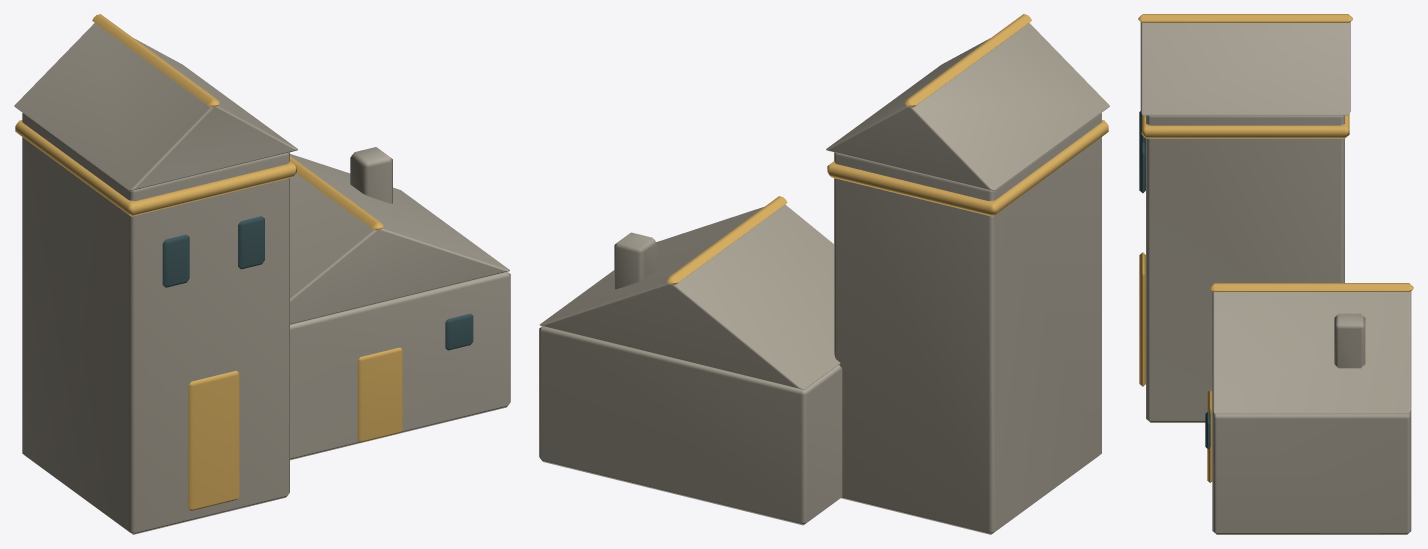
Rendered from default_town.glb.
The picture shows the model from 3 angles, left to right: view 1: azimuth 30°, elevation 25°; view 2: azimuth 150°, elevation 25°; view 3: azimuth 270°, elevation 25°; orthographic projection. The views are drawn at different scales.
Visible parts, largest first — view 1: WoodBody, BrassTrim, FixedDetails; view 2: WoodBody, BrassTrim; view 3: WoodBody, BrassTrim, FixedDetails.
Part boxes in pixels (x1,y1,x2,y2): WoodBody: [14, 23, 510, 534]; BrassTrim: [15, 14, 402, 510]; FixedDetails: [162, 216, 473, 350]; WoodBody: [539, 23, 1109, 534]; BrassTrim: [666, 14, 1108, 284]; WoodBody: [1140, 22, 1411, 534]; BrassTrim: [1138, 14, 1413, 482]; FixedDetails: [1139, 111, 1210, 448].
Size of the model in its own units: 0.394 by 0.374 by 0.249.
